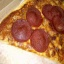pepperoni: (42, 4, 64, 31), (12, 20, 31, 41), (32, 28, 48, 51), (27, 6, 42, 25)
pizza: (1, 1, 64, 63)
